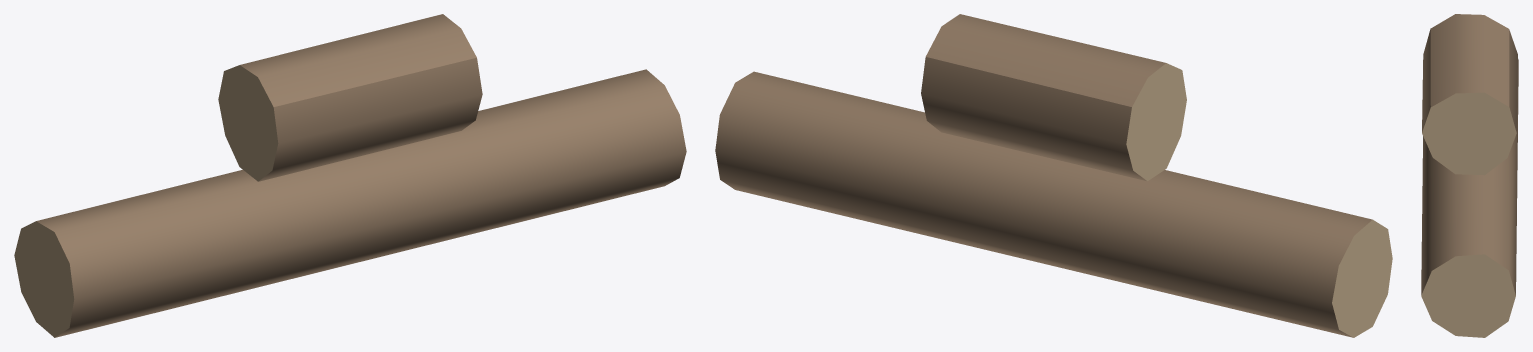
The model's file is log_peak_low.glb.
3 renders of one model, left to right at view 1: azimuth 30°, elevation 25°; view 2: azimuth 150°, elevation 25°; view 3: azimuth 270°, elevation 25°, orthographic. The views are drawn at different scales.
Visible parts, largest first — view 1: Wall; view 2: Wall; view 3: Wall.
Boxes of the visible parts, bbox=[...] form: Wall: bbox=[14, 14, 686, 337]; Wall: bbox=[715, 14, 1392, 337]; Wall: bbox=[1421, 14, 1518, 337].
Size of the model in its own units: 2.25 by 0.7428 by 0.3939.
